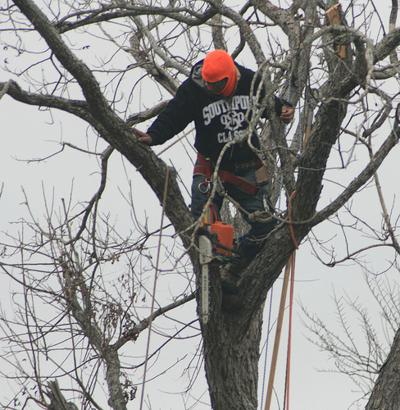person: (128, 50, 297, 250)
